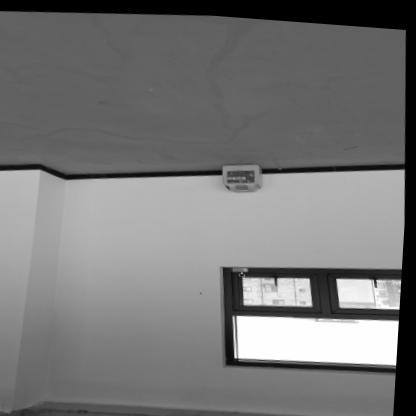DDL: (223, 156, 264, 191)
